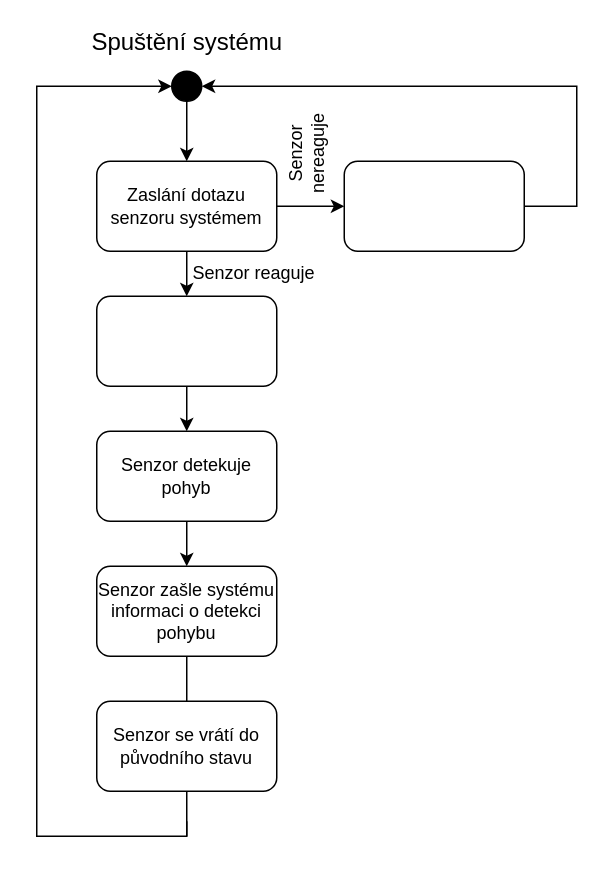
Image size: 615x875. Some labels were removed from this diagram. Here are the shapes that lost their labels. From the top down, the box of each, then its label:
(343, 160, 524, 251): Zaslání informace o poruše nadřazenému systému
(95, 295, 277, 386): Nadřazený systém dostane informaci
